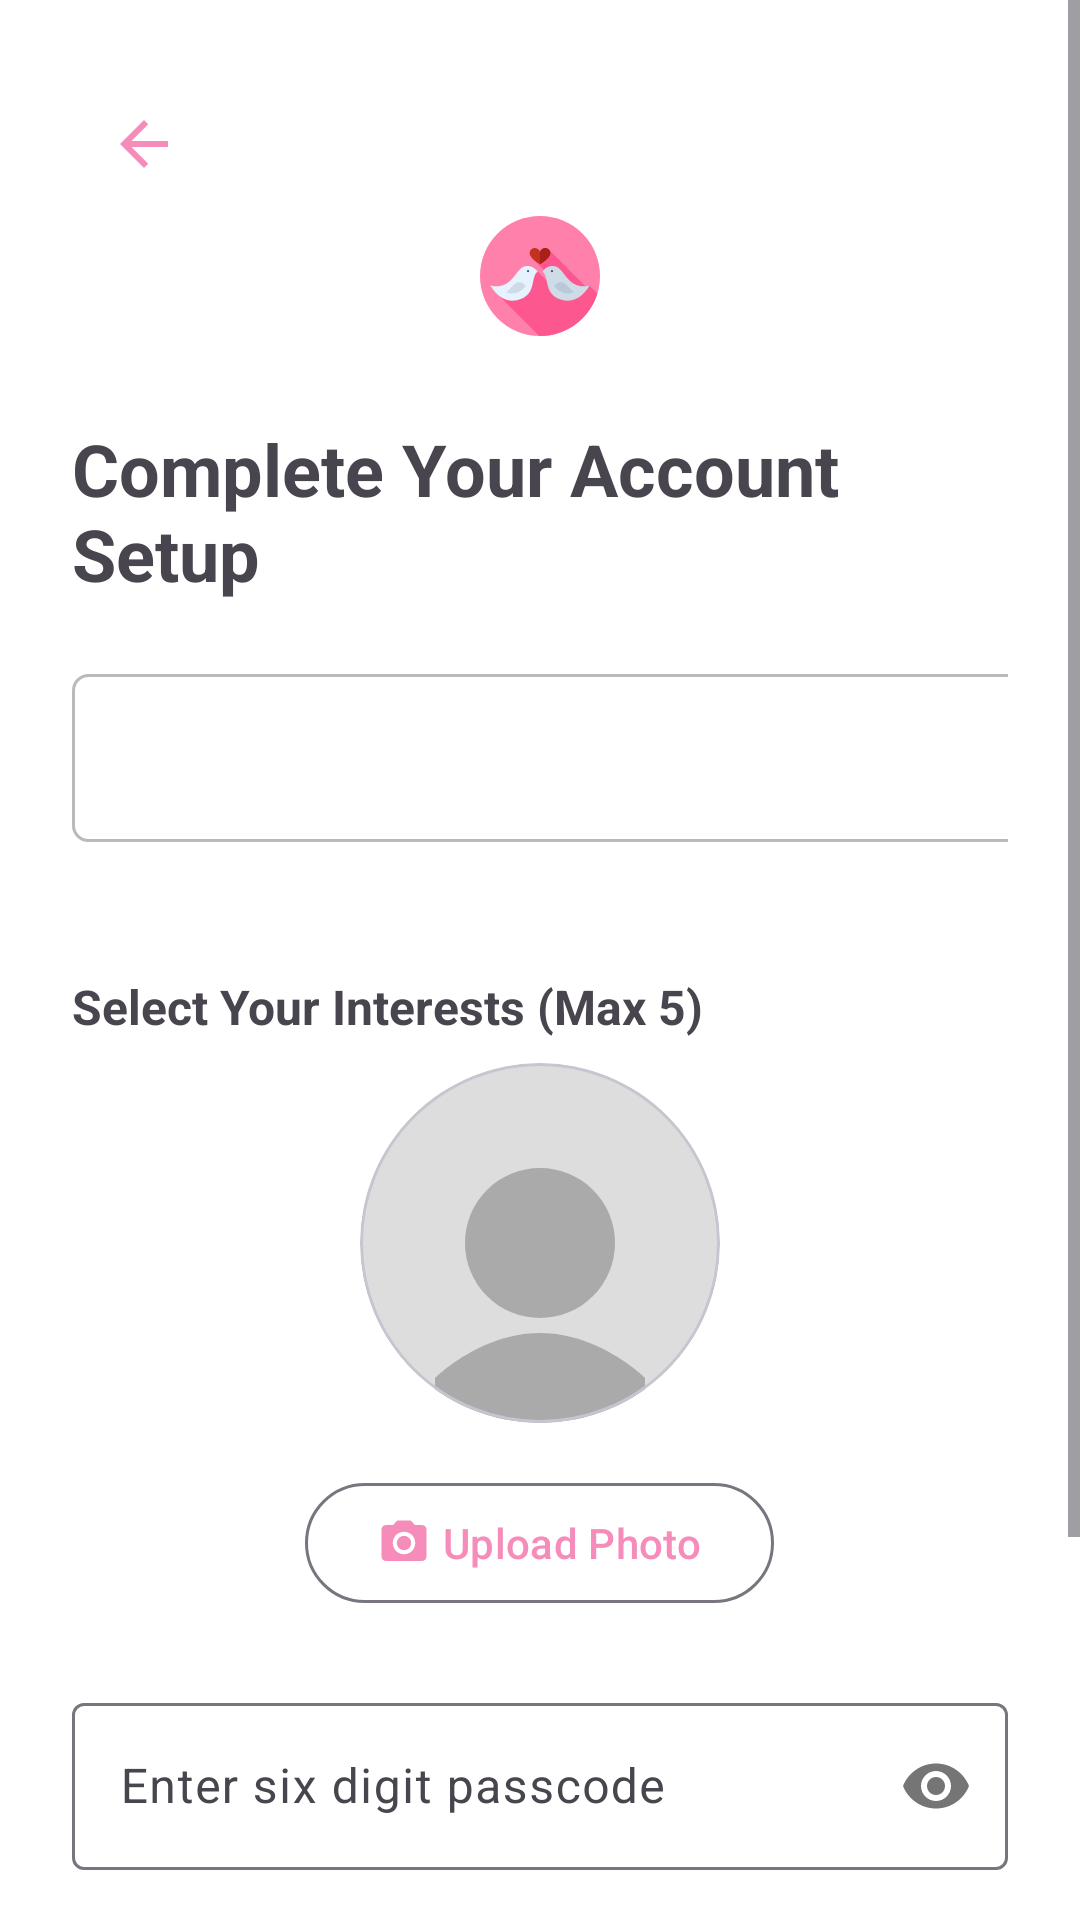

Where icons sit on this 1080px x 1920px app screen, as box=[x1, y1, x2, y2]:
Back Button: box=[120, 120, 168, 168]
